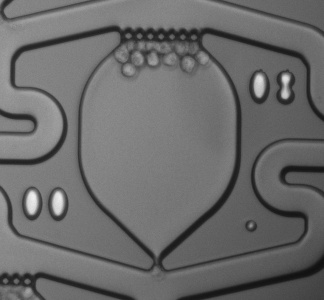AptNum: (244, 64, 304, 112)
Marker: (241, 215, 263, 236)
StNum: (13, 179, 77, 230)
Trap: (130, 257, 187, 300)
